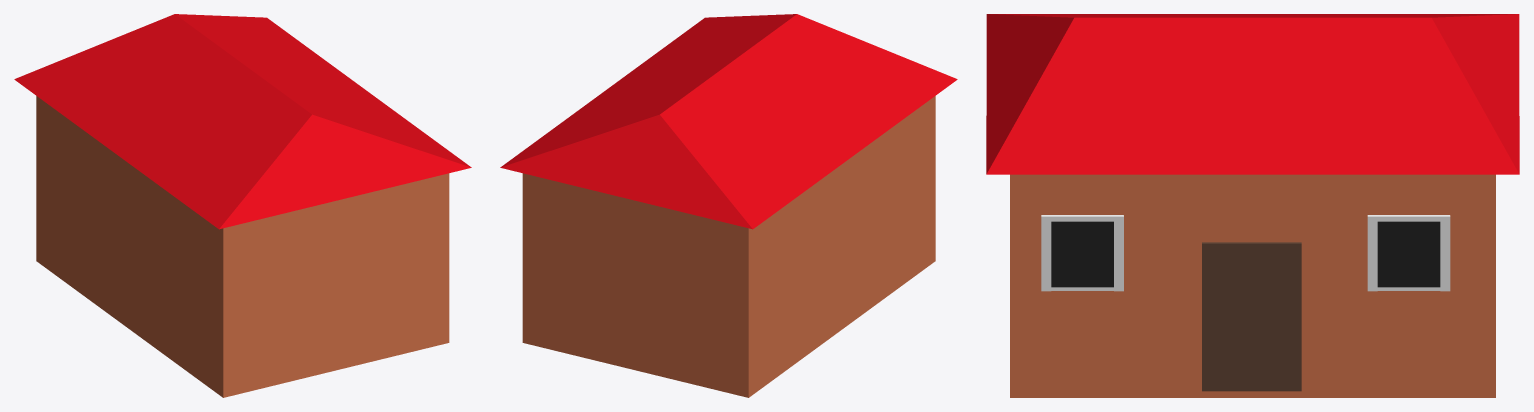
Rendered from small-house.glb.
The picture shows the model from 3 angles, left to right: view 1: azimuth 30°, elevation 25°; view 2: azimuth 150°, elevation 25°; view 3: azimuth 270°, elevation 25°; orthographic projection. The views are drawn at different scales.
Visible parts, largest first — view 1: Cube; view 2: Cube; view 3: Cube, Cube.001, Cube.002, Cube.019.
Boxes of the visible parts, box(x1,y1,x2,y2) form: Cube: box(14, 14, 471, 397); Cube: box(500, 14, 957, 397); Cube: box(986, 14, 1519, 397); Cube.001: box(1202, 242, 1301, 391); Cube.002: box(1367, 215, 1450, 291); Cube.019: box(1041, 215, 1123, 291).
Size of the model in its own units: 4.66 by 4.18 by 6.54.
